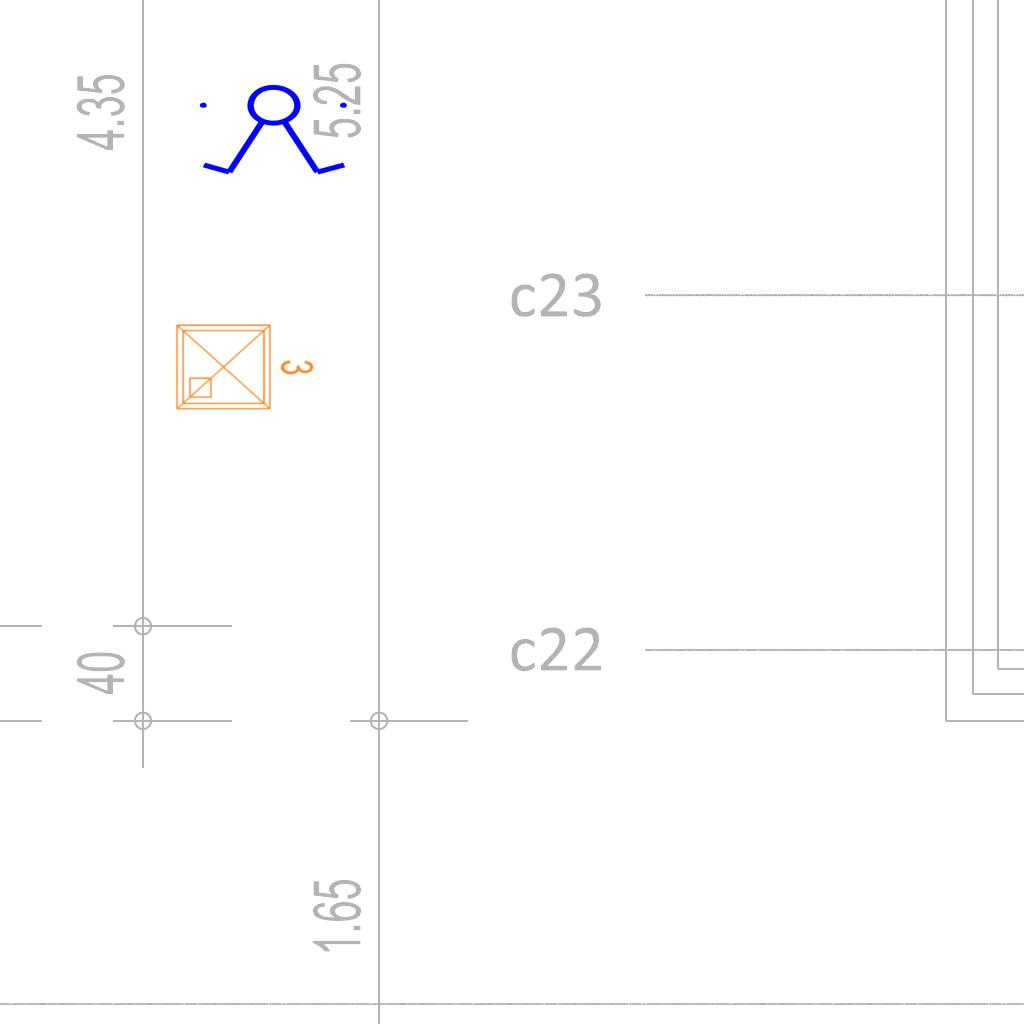Einbaudownlights_LED_Konferenzraeume: (169, 313, 319, 417)
Serienschalter: (191, 83, 359, 179)
